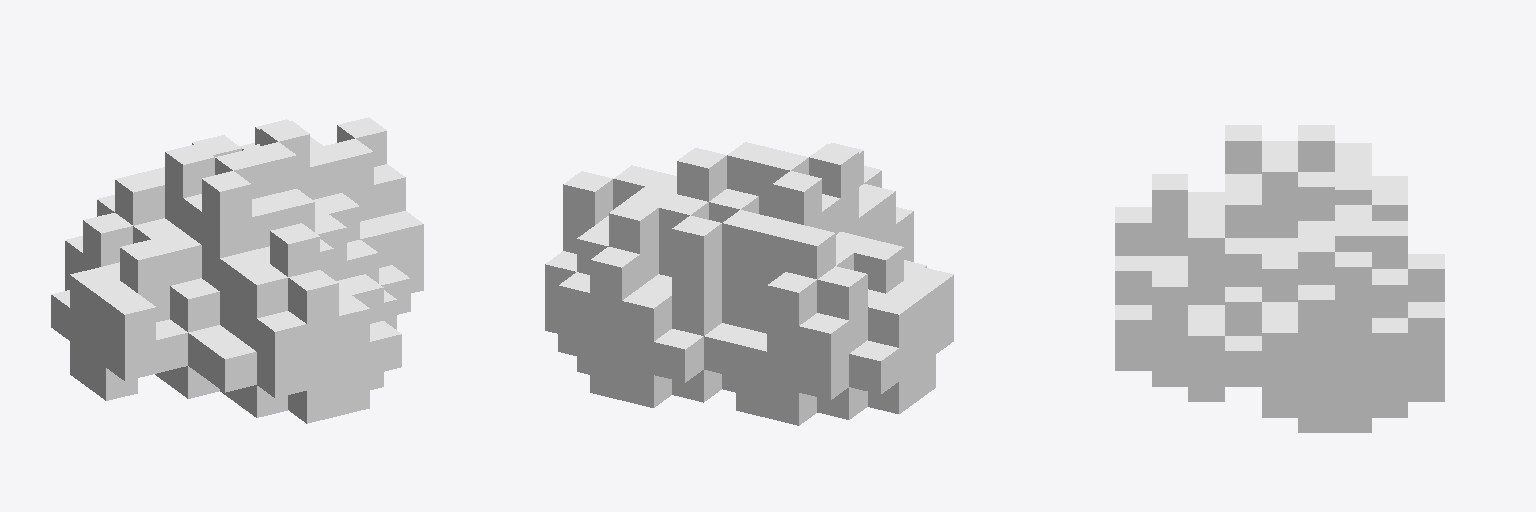
The model's file is bush_small.obj.
The picture shows the model from 3 angles: view 1: azimuth 30°, elevation 25°; view 2: azimuth 150°, elevation 25°; view 3: azimuth 270°, elevation 25°; orthographic projection.
Size of the model in its own units: 10 by 6 by 9.